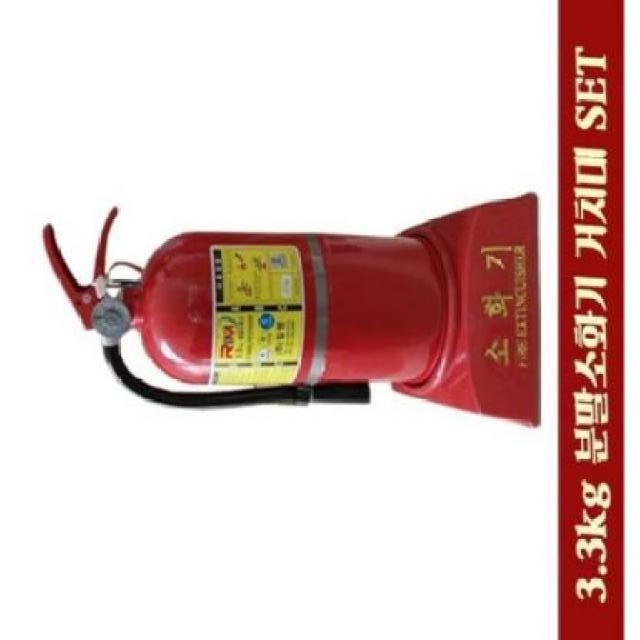fire extinguisher: (41, 205, 445, 411)
